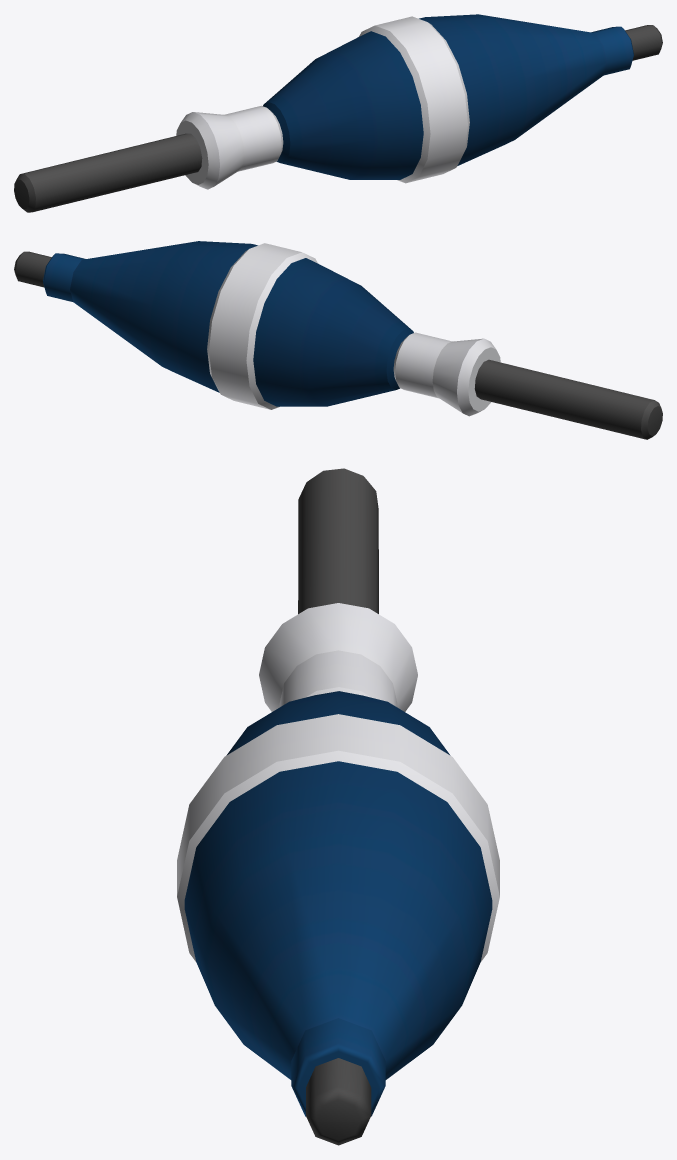
File: Launchershell_GL3.fbx
3 renders of one model, top to bottom at view 1: azimuth 30°, elevation 25°; view 2: azimuth 150°, elevation 25°; view 3: azimuth 270°, elevation 25°, orthographic. The views are drawn at different scales.
Parts seen in each view (by area): view 1: Launchershell_GL3; view 2: Launchershell_GL3; view 3: Launchershell_GL3.
Part boxes in pixels (x1=…): Launchershell_GL3: x1=14, y1=14, x2=662, y2=212; Launchershell_GL3: x1=14, y1=241, x2=662, y2=439; Launchershell_GL3: x1=177, y1=468, x2=499, y2=1145.
Bounding box in the file's own units: 69.08 × 15.2 × 15.2.
